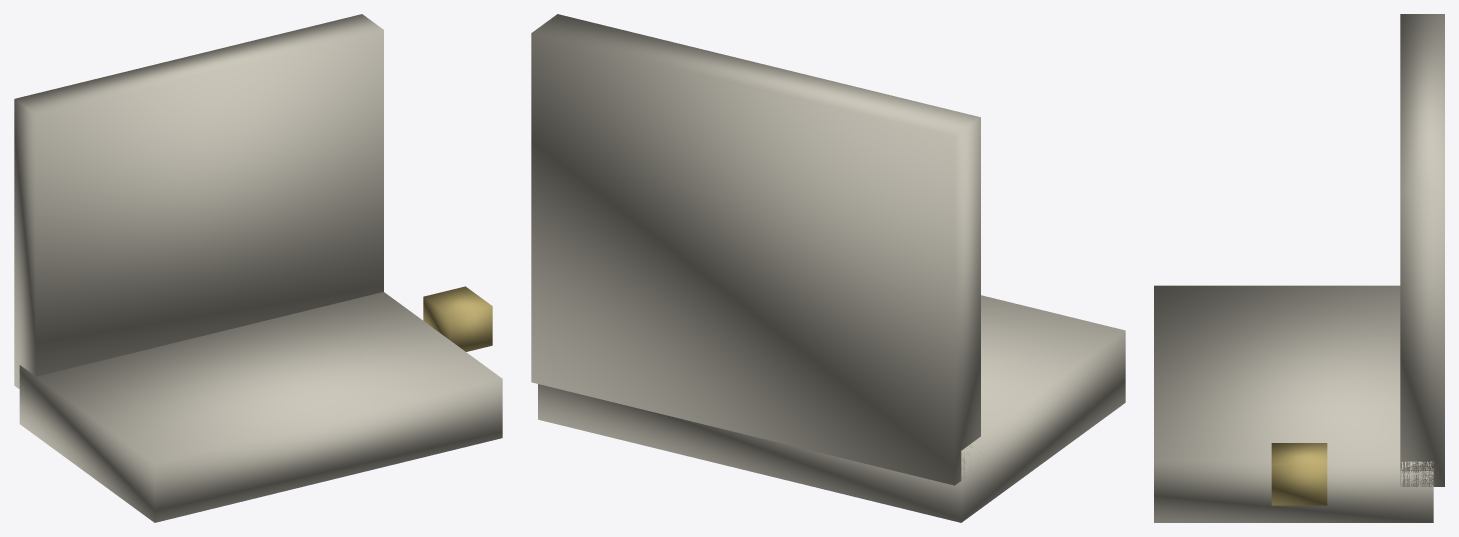
The model's file is baby_change_05.glb.
The picture shows the model from 3 angles, left to right: view 1: azimuth 30°, elevation 25°; view 2: azimuth 150°, elevation 25°; view 3: azimuth 270°, elevation 25°; orthographic projection. The views are drawn at different scales.
Visible parts, largest first — view 1: world; view 2: world; view 3: world.
Part boxes in pixels (bbox=[...]): world: bbox=[14, 14, 502, 522]; world: bbox=[531, 14, 1125, 522]; world: bbox=[1154, 14, 1444, 522].
Size of the model in its own units: 0.8184 by 0.637 by 0.5044.
